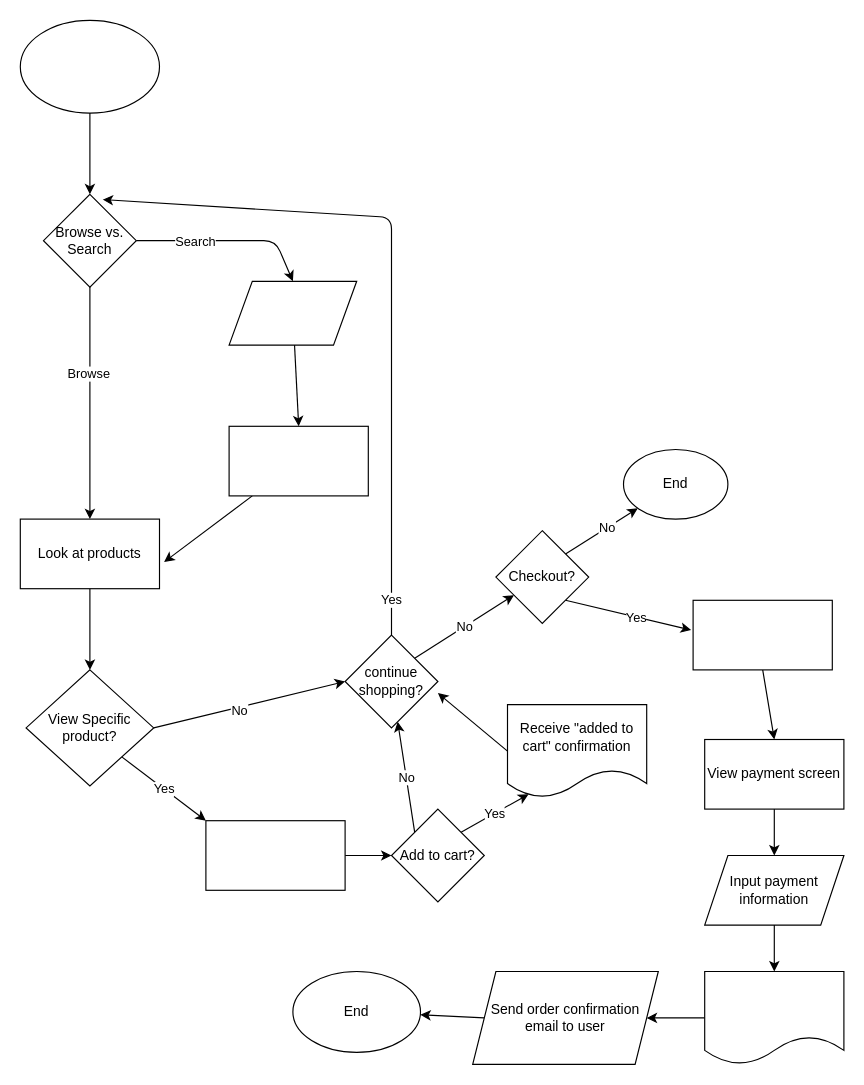
Some shapes in this 864 by 1085 pixel diagram are drawn without their labels. The shapes that lost their labels are listed below. From the top down, each one's box as (x1, y1, x2, y2) in pixels, then its label:
(19, 19, 160, 113): Start
(228, 280, 357, 345): Input search for product
(228, 425, 368, 496): Generate products based on search input
(692, 599, 832, 670): Generate View Cart Screen
(205, 820, 345, 890): generate specific webpage of product
(704, 970, 844, 1064): Generate order confirmation
